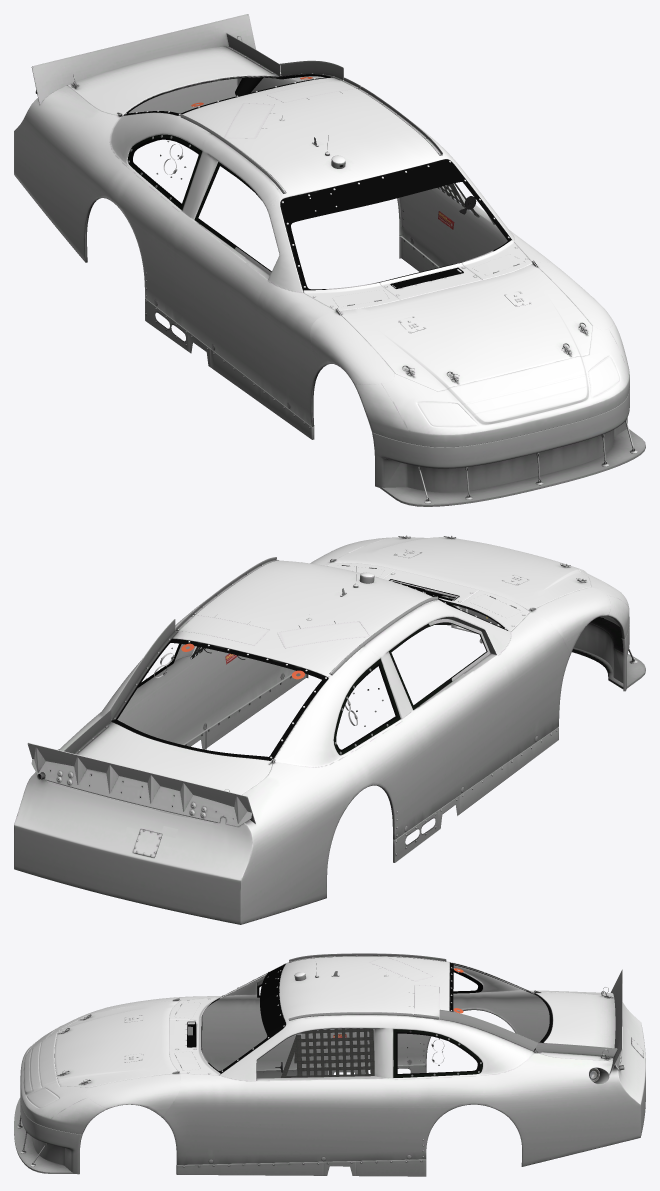
File: FordTheGame2011.glb
The picture shows the model from 3 angles, top to bottom: view 1: azimuth 30°, elevation 25°; view 2: azimuth 150°, elevation 25°; view 3: azimuth 270°, elevation 25°; orthographic projection. The views are drawn at different scales.
Parts seen in each view (by area): view 1: fusion_cot_rc; view 2: fusion_cot_rc; view 3: fusion_cot_rc.
Boxes of the visible parts, x1=… form: fusion_cot_rc: x1=14, y1=14, x2=645, y2=506; fusion_cot_rc: x1=14, y1=535, x2=645, y2=924; fusion_cot_rc: x1=14, y1=953, x2=645, y2=1176.
Size of the model in its own units: 1.85 by 1.44 by 5.12.
Materials: 31 (26 with a texture image).
